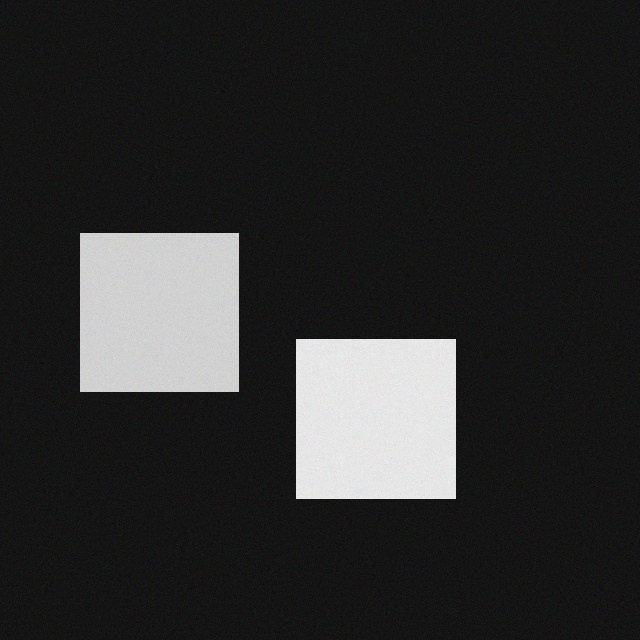square: (282, 327, 441, 486), (66, 221, 224, 379)
